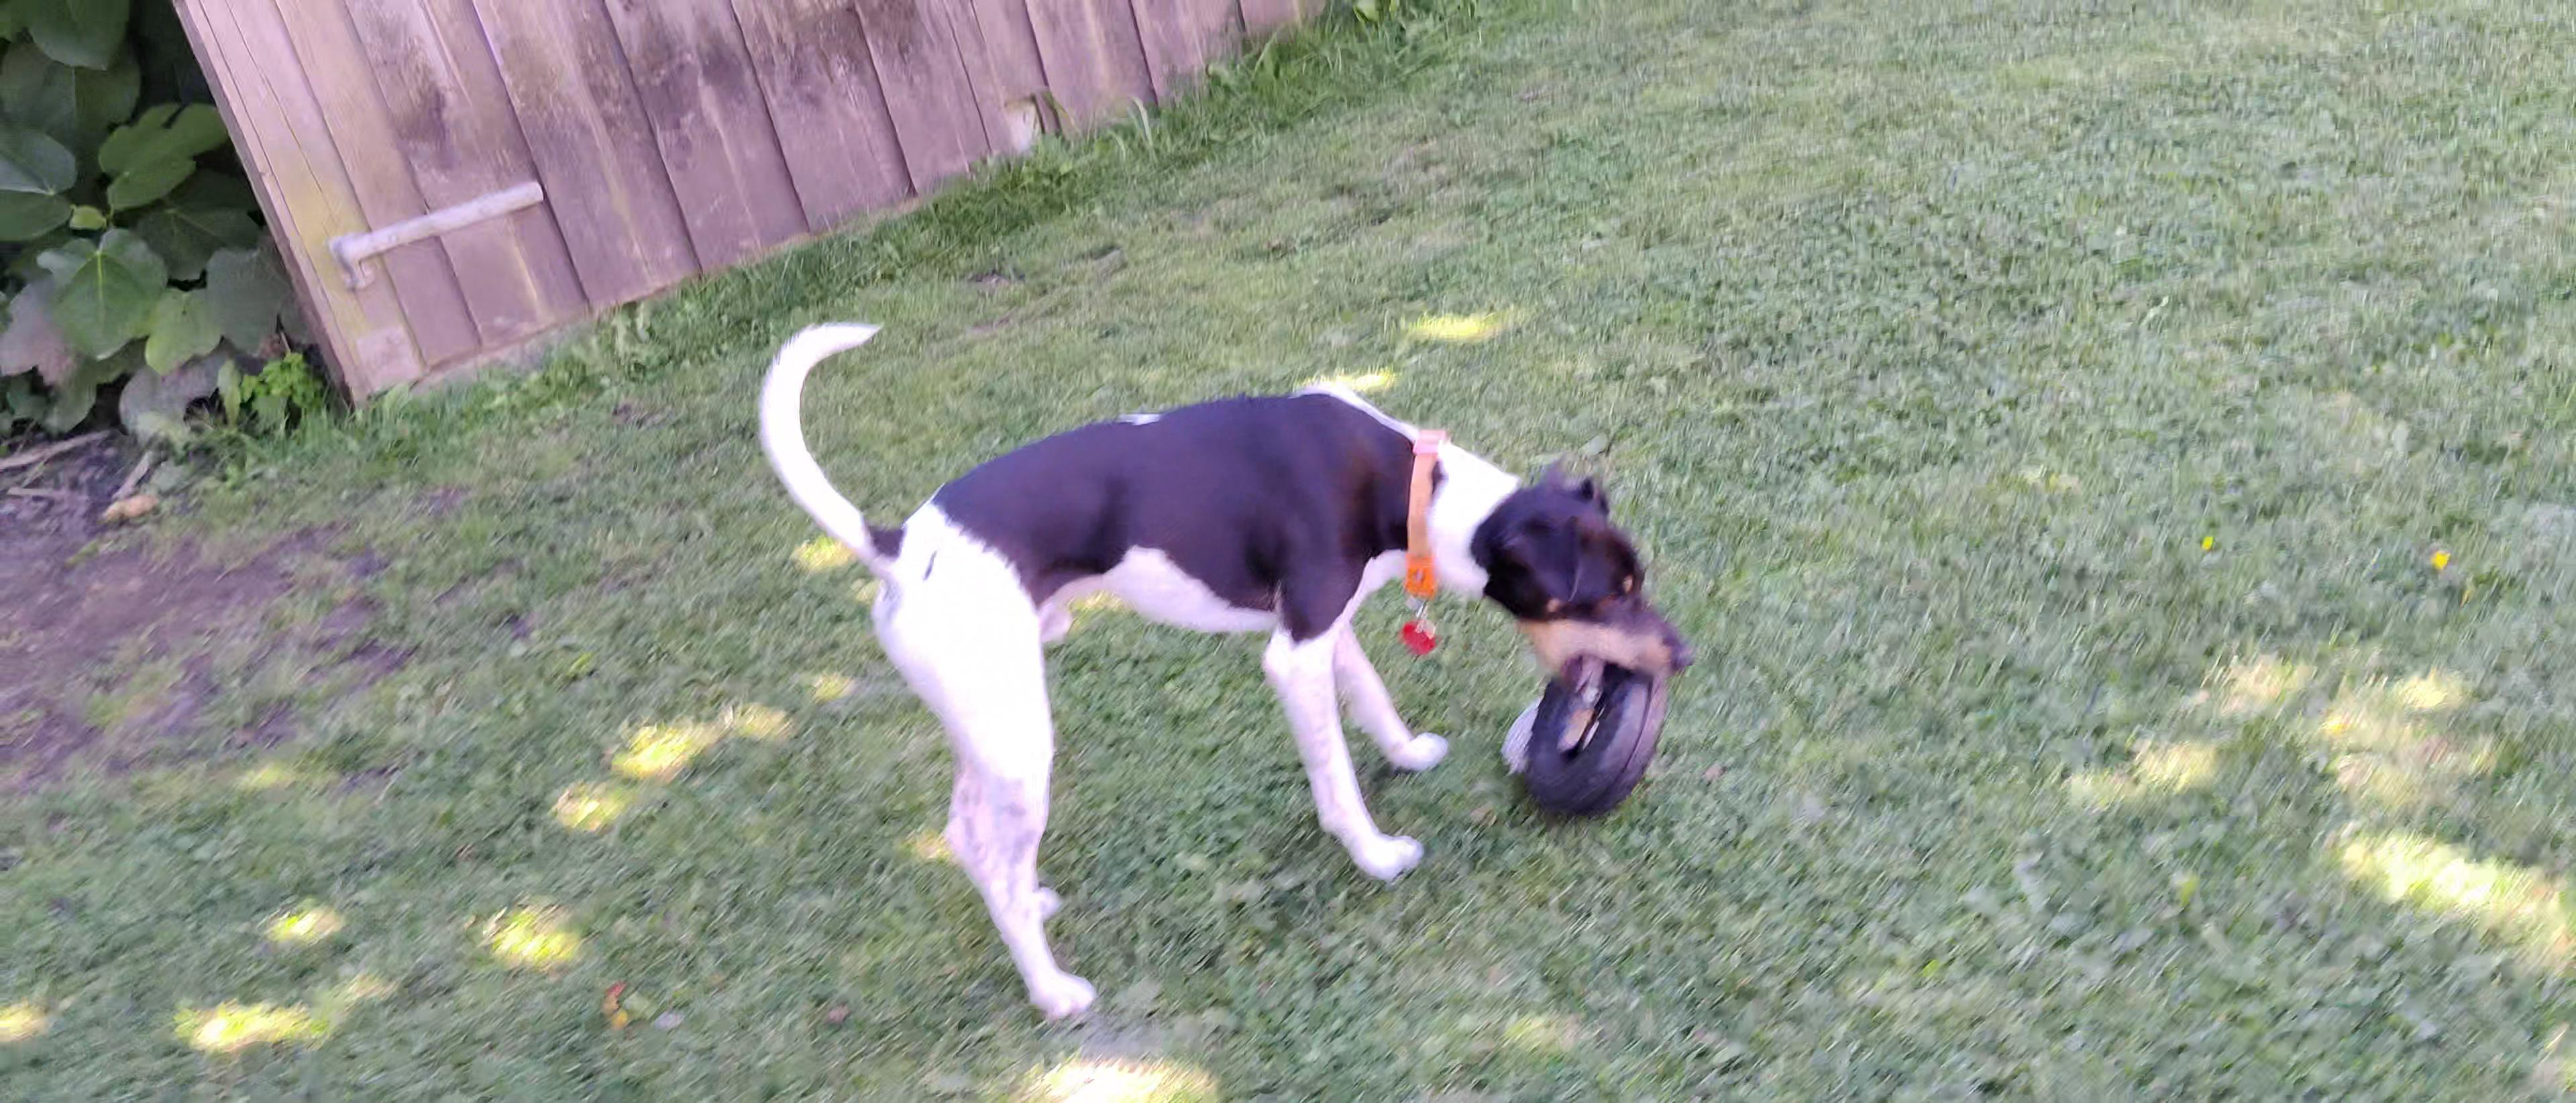Dog: (739, 281, 1697, 1031)
